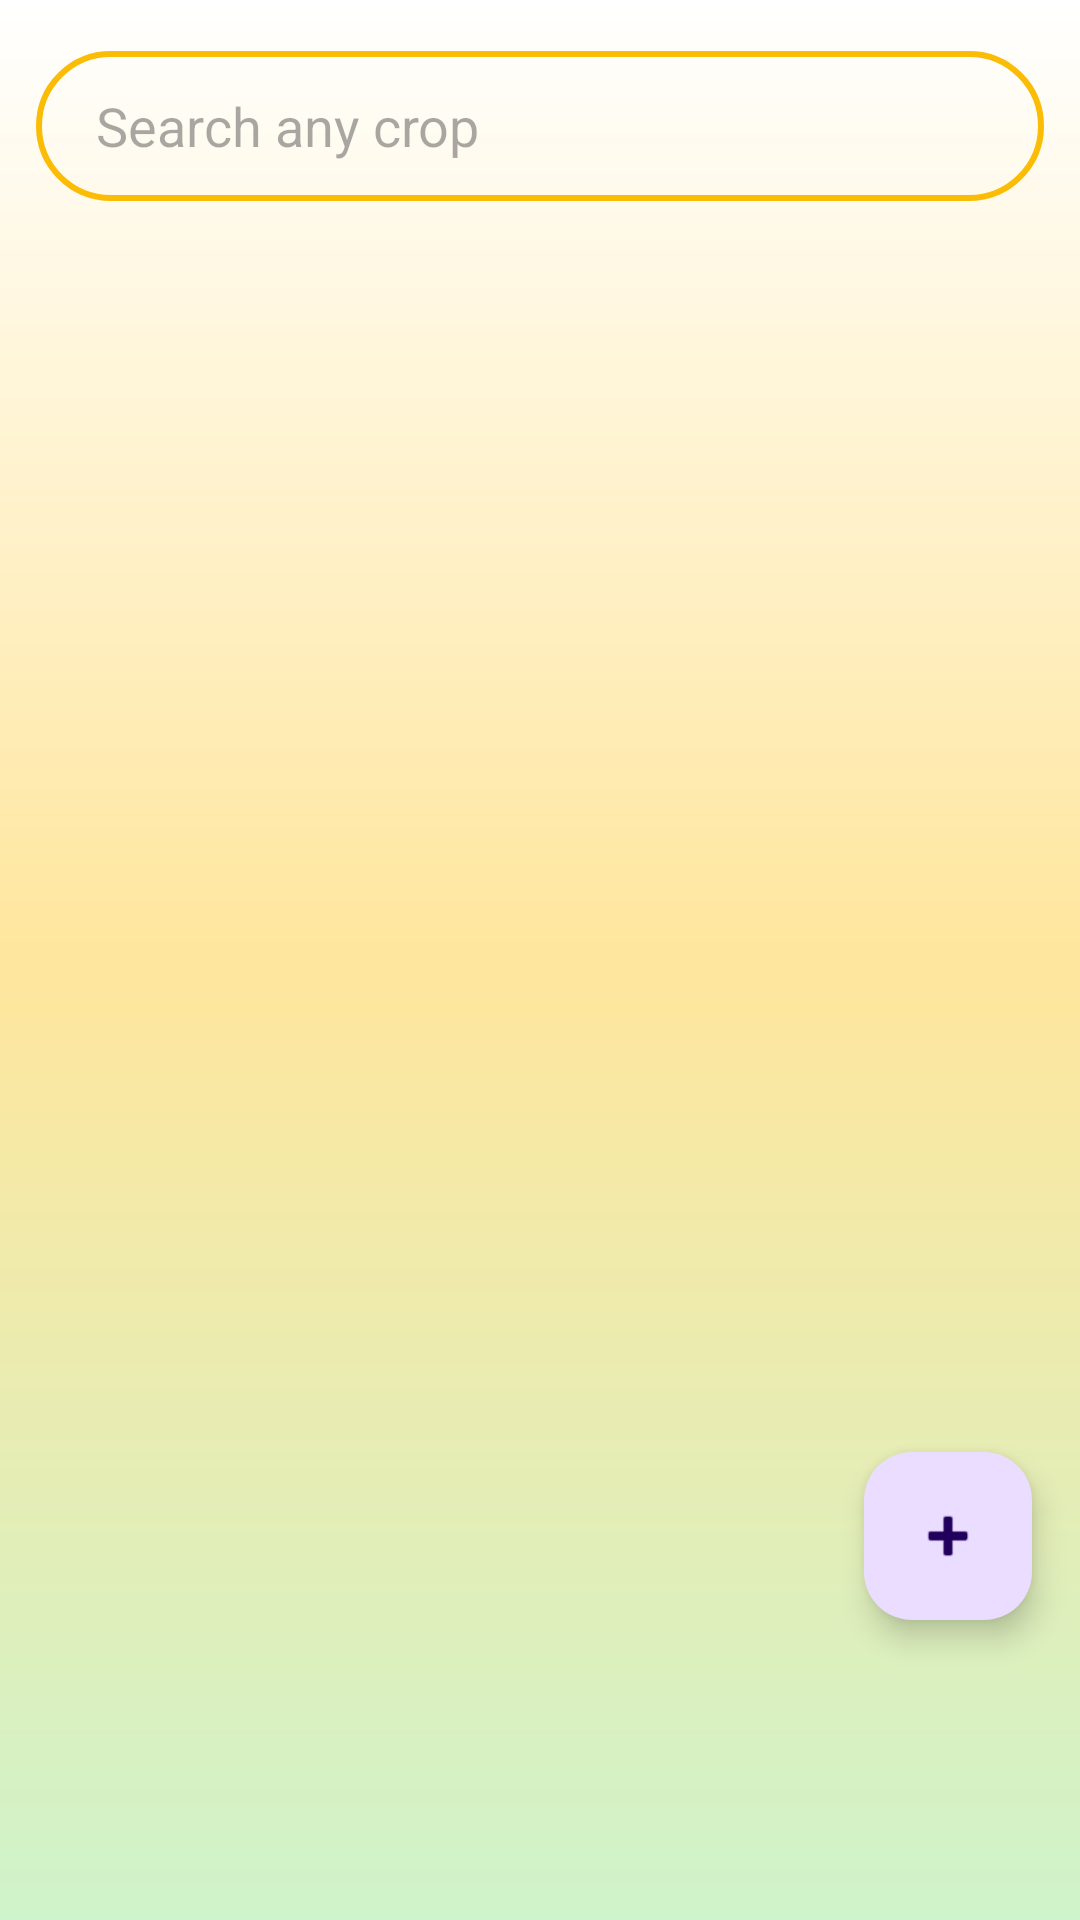

Where icons sit on this 1080px×1920px app screen, as (x1, y1, x2, y2):
add: (864, 1452, 1032, 1620)
